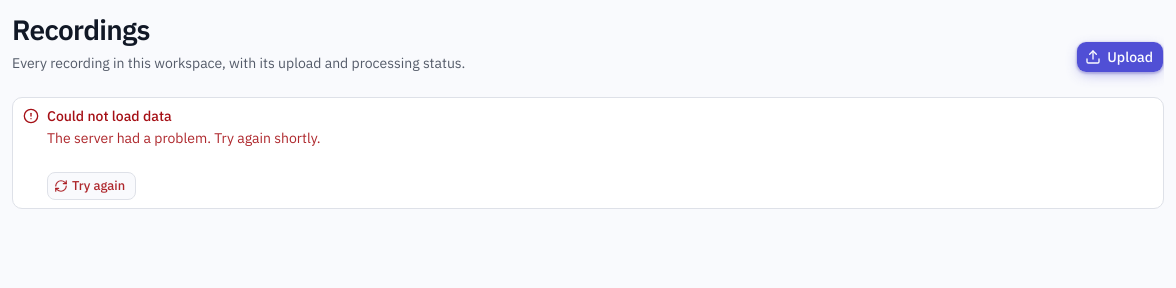
Test: RecordingsPage › shows an error with retry, then recovers
Expected: the message shows "The server had a problem", [47,129,321,147]
Click the button "Try again". click: (92, 186)
box: [47,172,136,200]
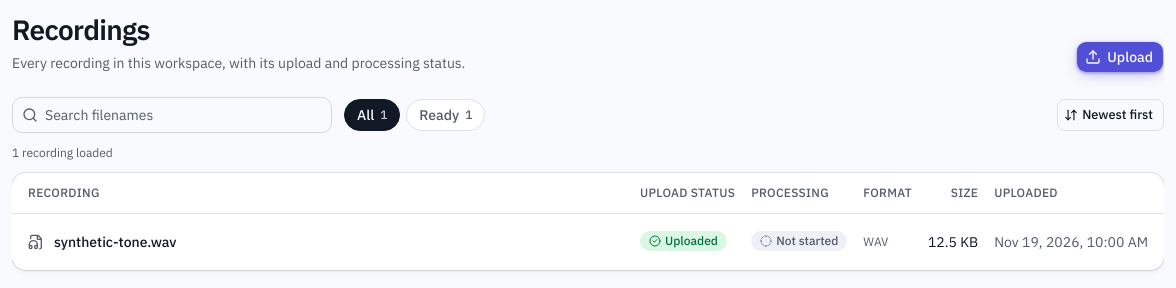
Now the link "synthetic-tone.wav" is shown, box [28,232,176,250]
